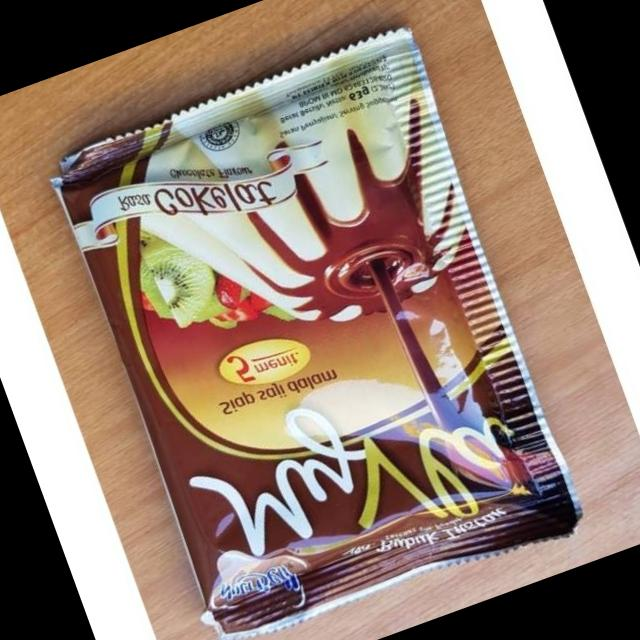KemasanPlastik: (35, 23, 592, 640)
